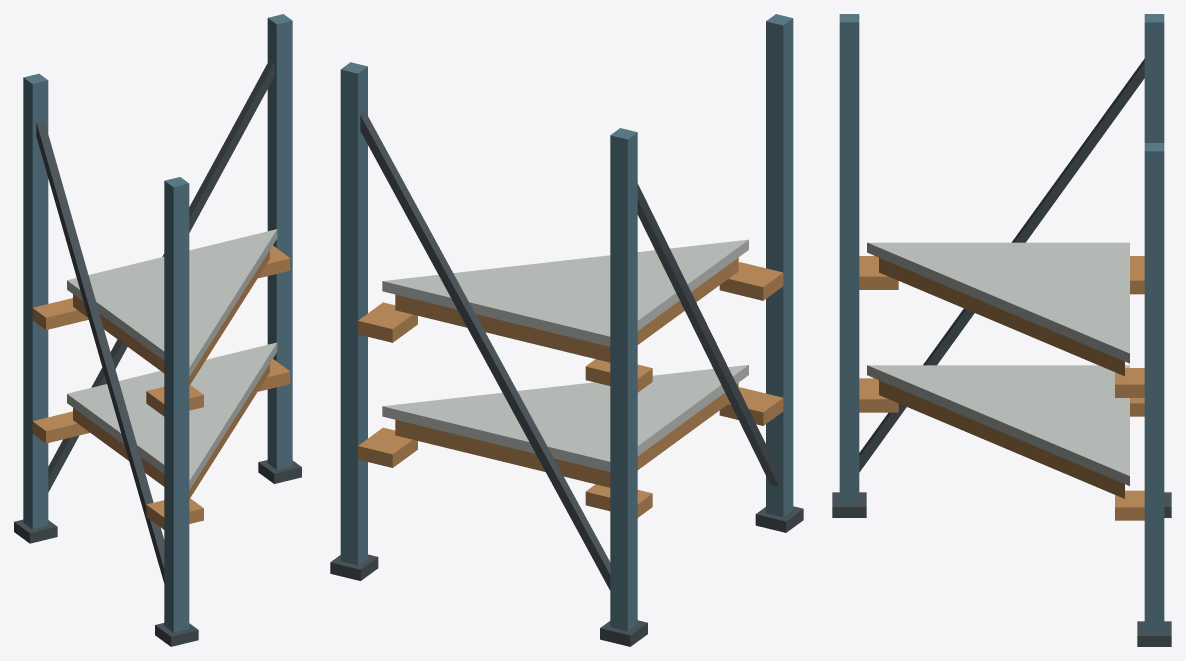
3 views of the same model, side by side, from view 1: azimuth 30°, elevation 25°; view 2: azimuth 150°, elevation 25°; view 3: azimuth 270°, elevation 25° (orthographic). The views are drawn at different scales.
Visible parts, largest first — view 1: FullHeightPost_3, UpperWholeCornerShelf, FullHeightPost_1, FullHeightPost_2, LowerWholeCornerShelf, BackYCompleteDiagonalBrace, BackXCompleteDiagonalBrace, UpperWholeTriangularUnderframe, LowerWholeTriangularUnderframe, LowerFiniteCornerBracket_1, UpperFiniteCornerBracket_1, UpperFiniteCornerBracket_3 (+6 smaller); view 2: UpperWholeCornerShelf, LowerWholeCornerShelf, FullHeightPost_1, FullHeightPost_2, FullHeightPost_3, BackXCompleteDiagonalBrace, LowerWholeTriangularUnderframe, UpperWholeTriangularUnderframe, BackYCompleteDiagonalBrace, UpperFiniteCornerBracket_3, UpperFiniteCornerBracket_2, LowerFiniteCornerBracket_2 (+6 smaller); view 3: UpperWholeCornerShelf, LowerWholeCornerShelf, FullHeightPost_2, FullHeightPost_3, BackYCompleteDiagonalBrace, LowerWholeTriangularUnderframe, UpperWholeTriangularUnderframe, FullHeightPost_1, LowerFiniteCornerBracket_3, UpperFiniteCornerBracket_3, LowerFiniteCornerBracket_2, UpperFiniteCornerBracket_2 (+3 smaller).
Boxes of the visible parts, left/top/right/bottom form: FullHeightPost_3: left=164, top=177, right=189, bottom=632; UpperWholeCornerShelf: left=67, top=229, right=277, bottom=376; FullHeightPost_1: left=23, top=73, right=48, bottom=529; FullHeightPost_2: left=267, top=14, right=292, bottom=469; LowerWholeCornerShelf: left=67, top=342, right=277, bottom=489; BackYCompleteDiagonalBrace: left=36, top=120, right=164, bottom=582; BackXCompleteDiagonalBrace: left=48, top=59, right=274, bottom=492; UpperWholeTriangularUnderframe: left=73, top=250, right=269, bottom=385; LowerWholeTriangularUnderframe: left=73, top=364, right=269, bottom=498; LowerFiniteCornerBracket_1: left=32, top=411, right=89, bottom=443; UpperFiniteCornerBracket_1: left=32, top=298, right=88, bottom=329; UpperFiniteCornerBracket_3: left=146, top=385, right=203, bottom=416; UpperWholeCornerShelf: left=382, top=239, right=748, bottom=346; LowerWholeCornerShelf: left=382, top=365, right=748, bottom=471; FullHeightPost_1: left=610, top=128, right=637, bottom=630; FullHeightPost_2: left=340, top=62, right=367, bottom=565; FullHeightPost_3: left=766, top=14, right=793, bottom=517; BackXCompleteDiagonalBrace: left=360, top=111, right=610, bottom=590; LowerWholeTriangularUnderframe: left=395, top=383, right=738, bottom=487; UpperWholeTriangularUnderframe: left=395, top=257, right=738, bottom=362; BackYCompleteDiagonalBrace: left=637, top=183, right=778, bottom=486; UpperFiniteCornerBracket_3: left=719, top=262, right=783, bottom=300; UpperFiniteCornerBracket_2: left=358, top=302, right=417, bottom=342; LowerFiniteCornerBracket_2: left=358, top=427, right=417, bottom=467; UpperWholeCornerShelf: left=867, top=242, right=1129, bottom=363; LowerWholeCornerShelf: left=867, top=365, right=1129, bottom=485; FullHeightPost_2: left=1144, top=143, right=1164, bottom=632; FullHeightPost_3: left=839, top=14, right=859, bottom=503; BackYCompleteDiagonalBrace: left=859, top=59, right=1144, bottom=472; LowerWholeTriangularUnderframe: left=879, top=380, right=1124, bottom=498; UpperWholeTriangularUnderframe: left=879, top=257, right=1124, bottom=376; FullHeightPost_1: left=1144, top=14, right=1164, bottom=142; LowerFiniteCornerBracket_3: left=859, top=378, right=898, bottom=412; UpperFiniteCornerBracket_3: left=859, top=256, right=898, bottom=289; LowerFiniteCornerBracket_2: left=1115, top=490, right=1144, bottom=520; UpperFiniteCornerBracket_2: left=1115, top=368, right=1144, bottom=397.
Size of the model in its own units: 1.38 by 2.21 by 1.38.
